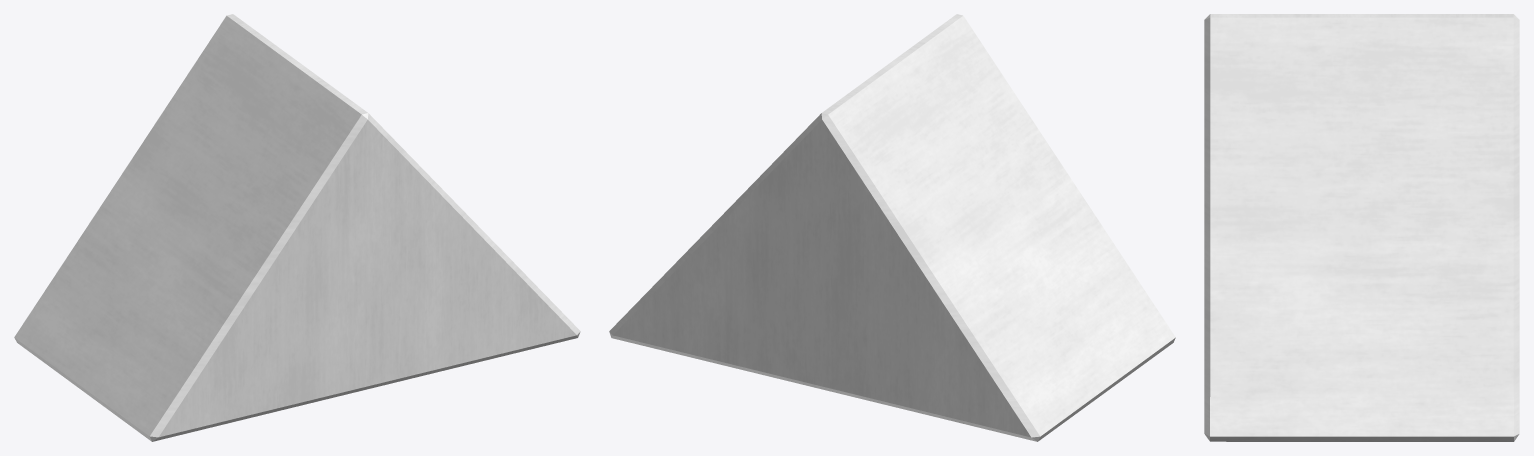
File: houseblock3-3.fbx
The picture shows the model from 3 angles, left to right: view 1: azimuth 30°, elevation 25°; view 2: azimuth 150°, elevation 25°; view 3: azimuth 270°, elevation 25°; orthographic projection. The views are drawn at different scales.
Visible parts, largest first — view 1: houseblock3; view 2: houseblock3; view 3: houseblock3.
Boxes of the visible parts, x1,y1,x2,y2 form: houseblock3: [14, 14, 580, 441]; houseblock3: [609, 14, 1175, 441]; houseblock3: [1204, 14, 1519, 441].
Bounding box in the file's own units: 1.74 × 1.07 × 0.9853.
